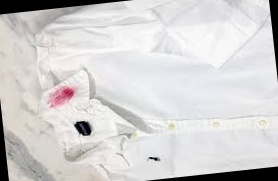lipstick: (44, 78, 78, 111)
